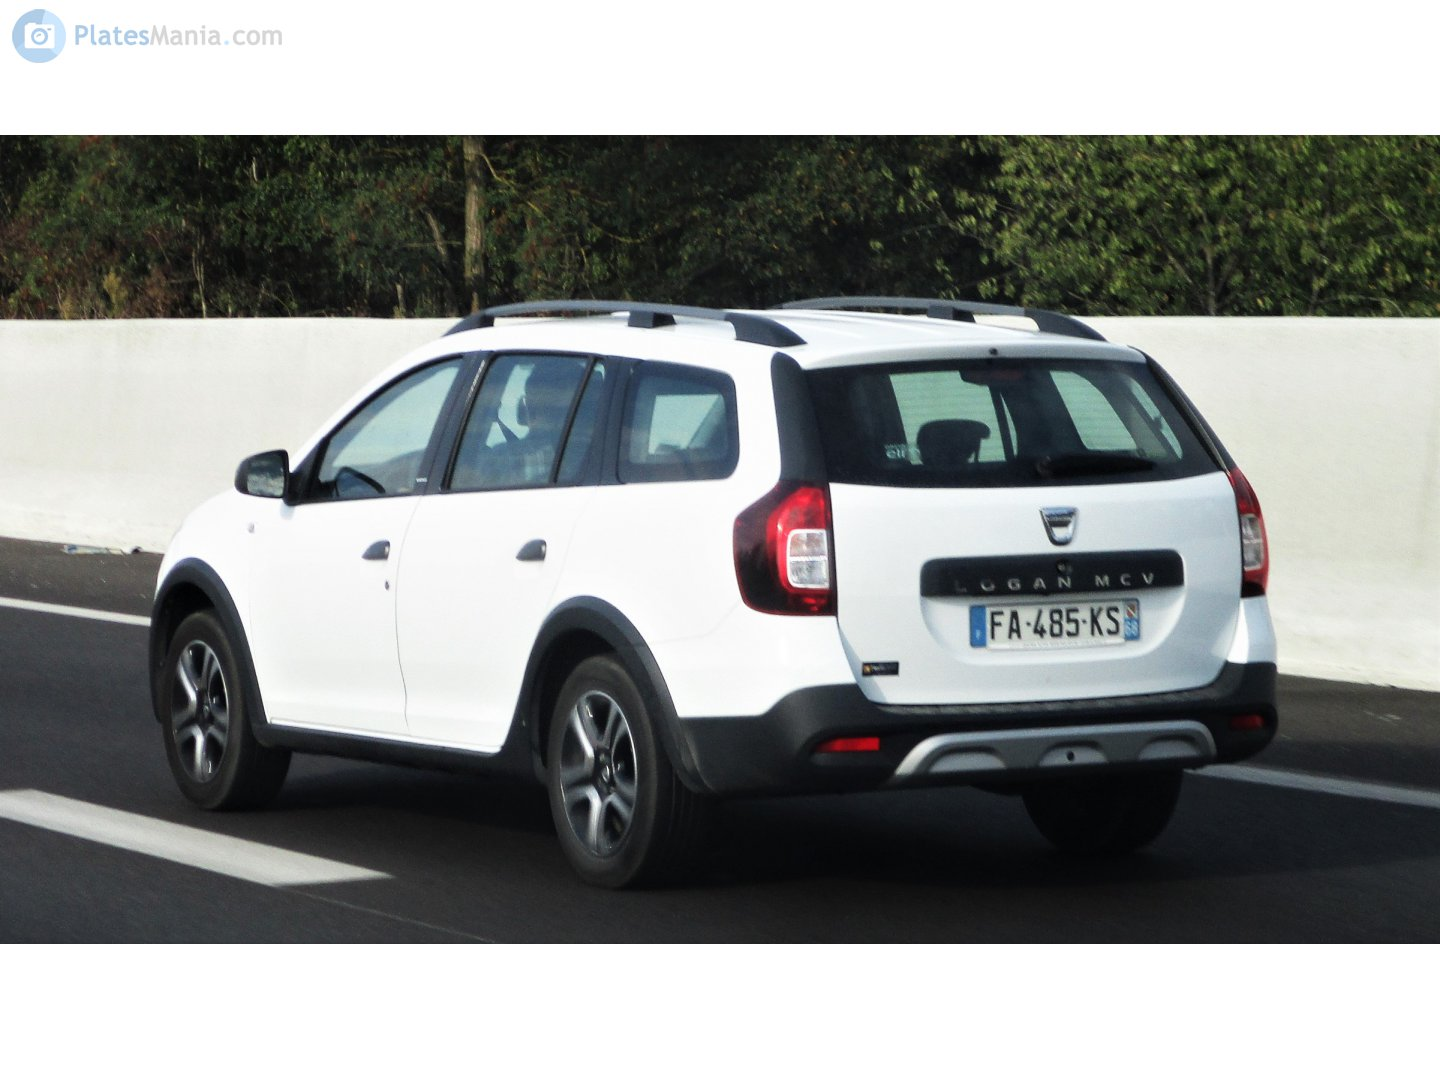licence plate: (963, 595, 1153, 654)
